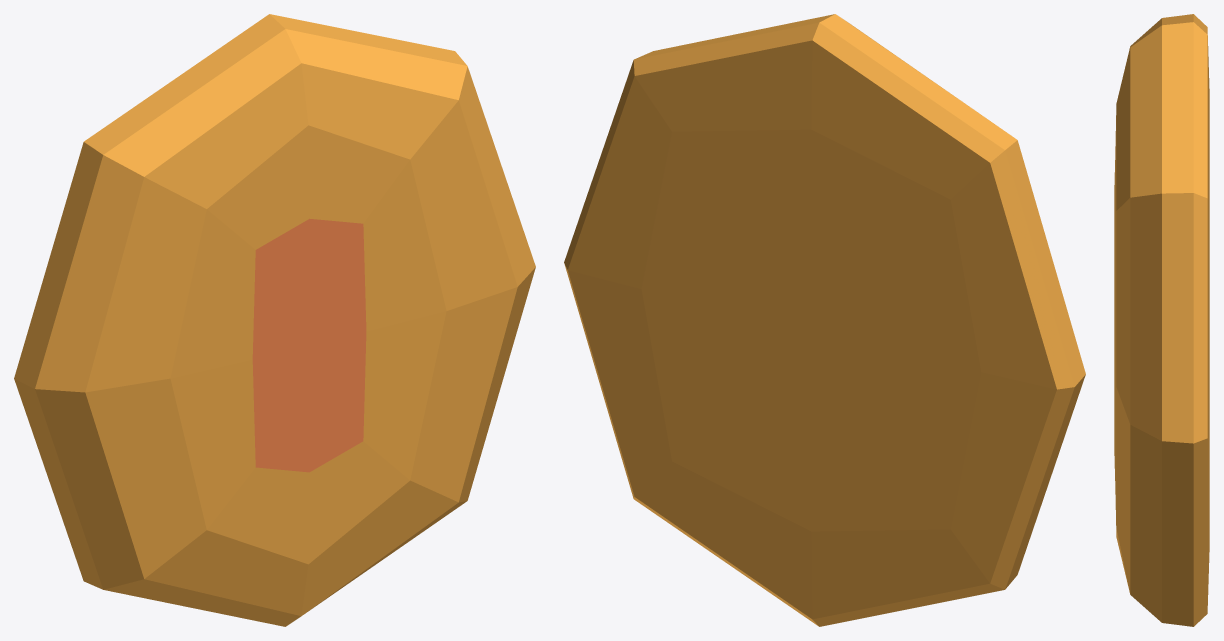
Rendered from coin.glb.
3 views of the same model, side by side, from view 1: azimuth 30°, elevation 25°; view 2: azimuth 150°, elevation 25°; view 3: azimuth 270°, elevation 25° (orthographic).
Parts seen in each view (by area): view 1: Cube; view 2: Cube; view 3: Cube.
Part boxes in pixels (<box>): Cube: <box>14,14,535,626</box>; Cube: <box>564,14,1085,626</box>; Cube: <box>1114,14,1209,626</box>.
Size of the model in its own units: 0.6122 by 0.6922 by 0.1.
